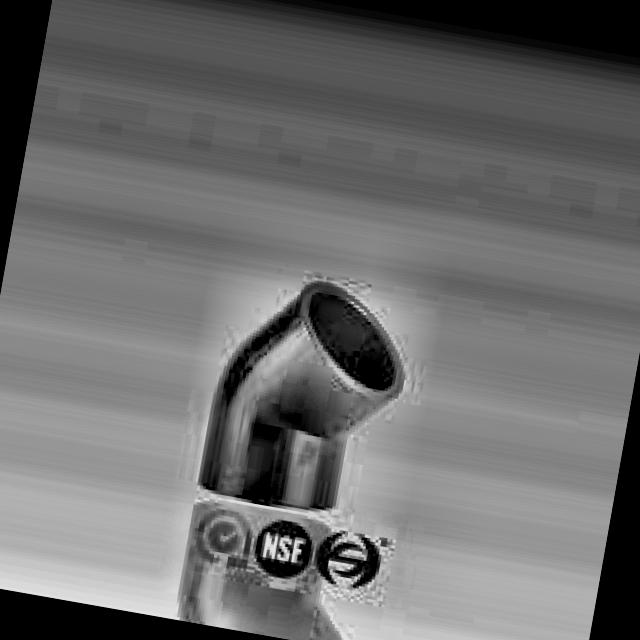ELBOW45: (194, 283, 404, 511)
